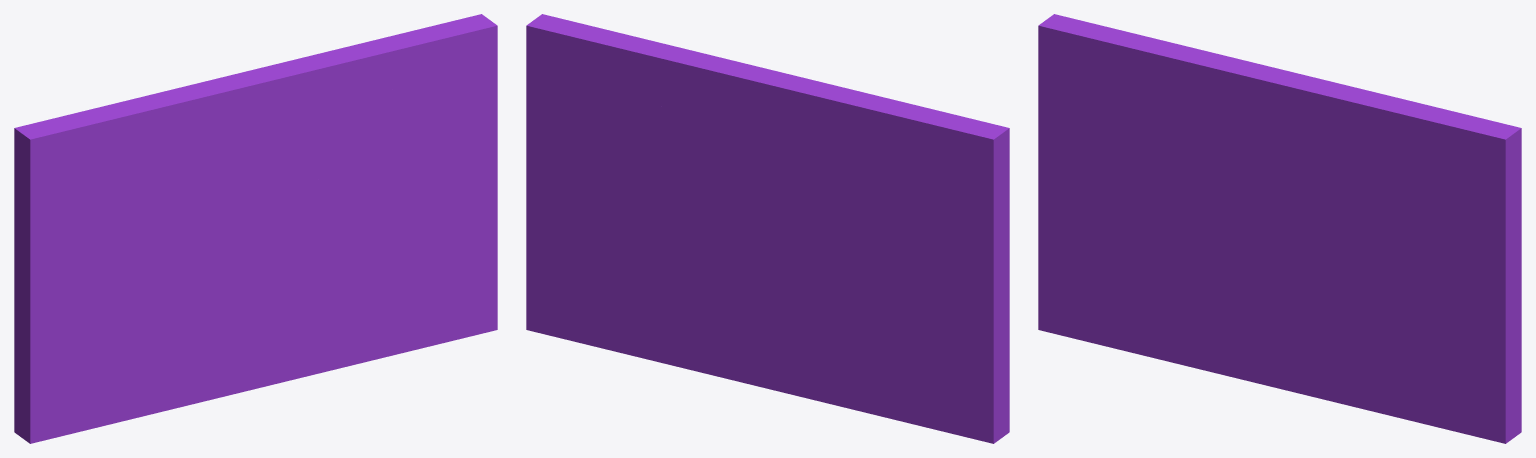
Rendered from Barrier_216_chunks.fbx.
The picture shows the model from 3 angles, left to right: view 1: azimuth 30°, elevation 25°; view 2: azimuth 150°, elevation 25°; view 3: azimuth 330°, elevation 25°; orthographic projection.
Visible parts, largest first — view 1: Barrier_216_1, Barrier_216_2, Barrier_216_5, Barrier_216_6, Barrier_216_0, Barrier_216_3, Barrier_216_4; view 2: Barrier_216_2, Barrier_216_1, Barrier_216_5, Barrier_216_6, Barrier_216_4, Barrier_216_3; view 3: Barrier_216_2, Barrier_216_1, Barrier_216_5, Barrier_216_6, Barrier_216_0, Barrier_216_3, Barrier_216_4.
Part boxes in pixels (bbox=[...]): Barrier_216_1: bbox=[14, 193, 282, 443]; Barrier_216_2: bbox=[308, 14, 497, 352]; Barrier_216_5: bbox=[201, 35, 432, 235]; Barrier_216_6: bbox=[14, 91, 229, 213]; Barrier_216_0: bbox=[250, 192, 402, 382]; Barrier_216_3: bbox=[63, 177, 222, 232]; Barrier_216_4: bbox=[167, 54, 317, 123]; Barrier_216_2: bbox=[526, 14, 765, 377]; Barrier_216_1: bbox=[721, 198, 1009, 443]; Barrier_216_5: bbox=[607, 30, 805, 231]; Barrier_216_6: bbox=[811, 79, 1009, 204]; Barrier_216_4: bbox=[690, 65, 845, 178]; Barrier_216_3: bbox=[786, 164, 993, 228]; Barrier_216_2: bbox=[1316, 107, 1521, 443]; Barrier_216_1: bbox=[1038, 96, 1290, 391]; Barrier_216_5: bbox=[1209, 84, 1440, 228]; Barrier_216_6: bbox=[1038, 14, 1237, 145]; Barrier_216_0: bbox=[1258, 213, 1410, 420]; Barrier_216_3: bbox=[1071, 116, 1230, 212]; Barrier_216_4: bbox=[1206, 51, 1356, 106].
Bounding box in the file's own units: 462 × 288 × 27.2.
